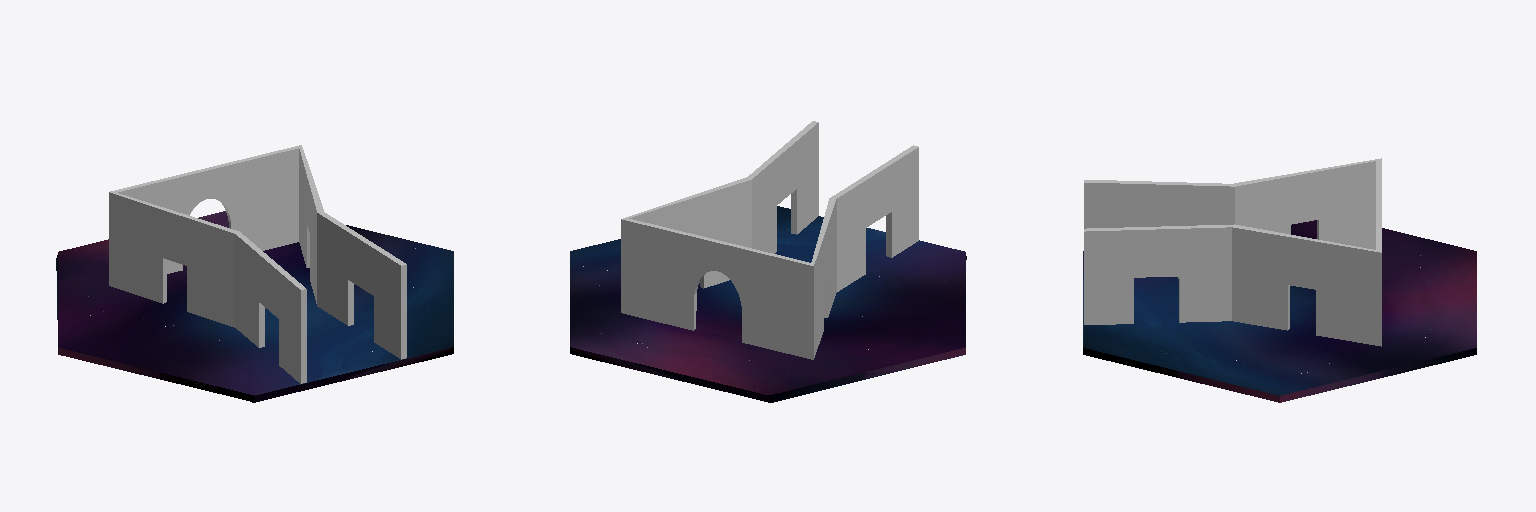
The picture shows the model from 3 angles: view 1: azimuth 30°, elevation 25°; view 2: azimuth 150°, elevation 25°; view 3: azimuth 270°, elevation 25°; orthographic projection.
Parts seen in each view (by area): view 1: ParedesInternas, Piso; view 2: ParedesInternas, Piso; view 3: ParedesInternas, Piso.
Boxes of the visible parts, <box> form: ParedesInternas: <box>109,145,406,383</box>; Piso: <box>56,211,453,402</box>; ParedesInternas: <box>621,121,918,359</box>; Piso: <box>570,206,966,402</box>; ParedesInternas: <box>1084,158,1381,346</box>; Piso: <box>1083,220,1476,402</box>.
Size of the model in its own units: 30.27 by 7.38 by 26.06.
Materials: 3 (1 with a texture image).